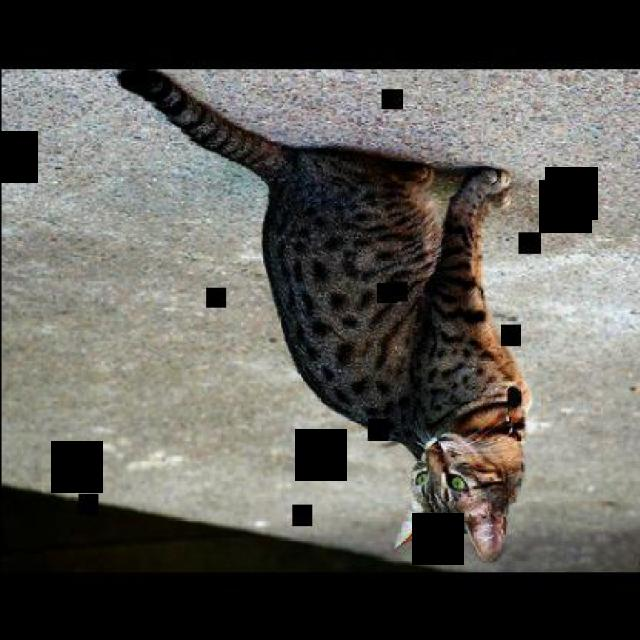unauthorized: (114, 68, 531, 563)
